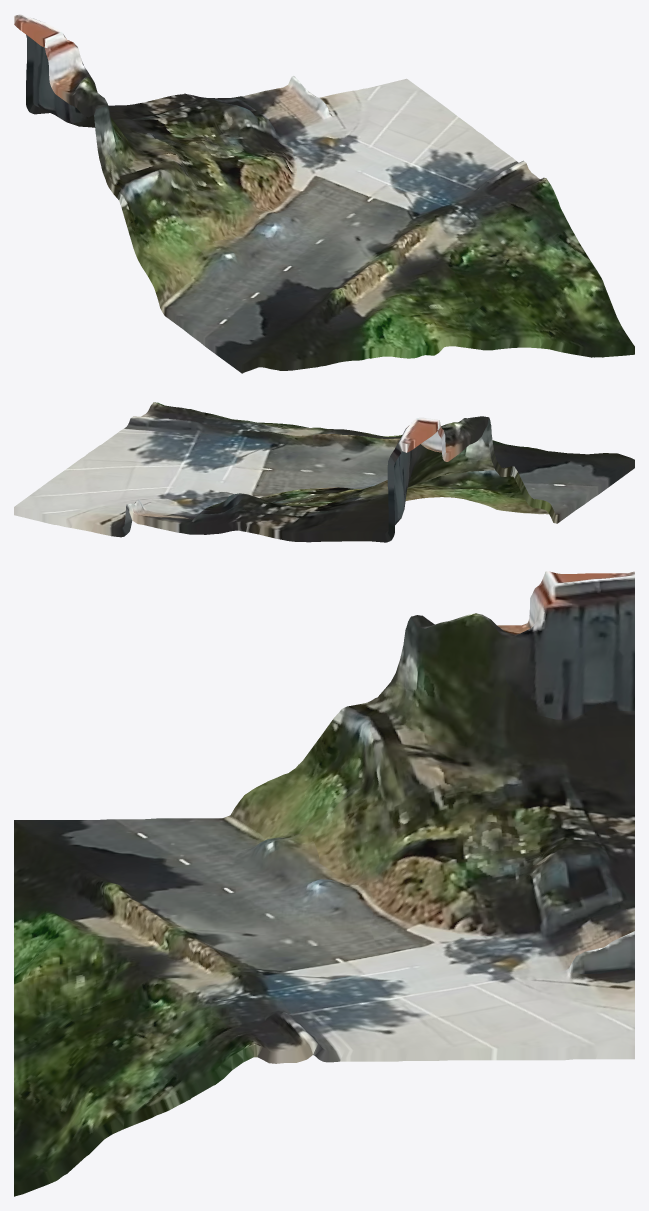
File: z20-167755-405194-h0-yup-uvflip-v3-world.glb
3 renders of one model, top to bottom at view 1: azimuth 30°, elevation 25°; view 2: azimuth 150°, elevation 25°; view 3: azimuth 270°, elevation 25°, orthographic. The views are drawn at different scales.
Bounding box in the file's own units: 30.16 × 19.72 × 30.32.
1 material, 1 textured.
